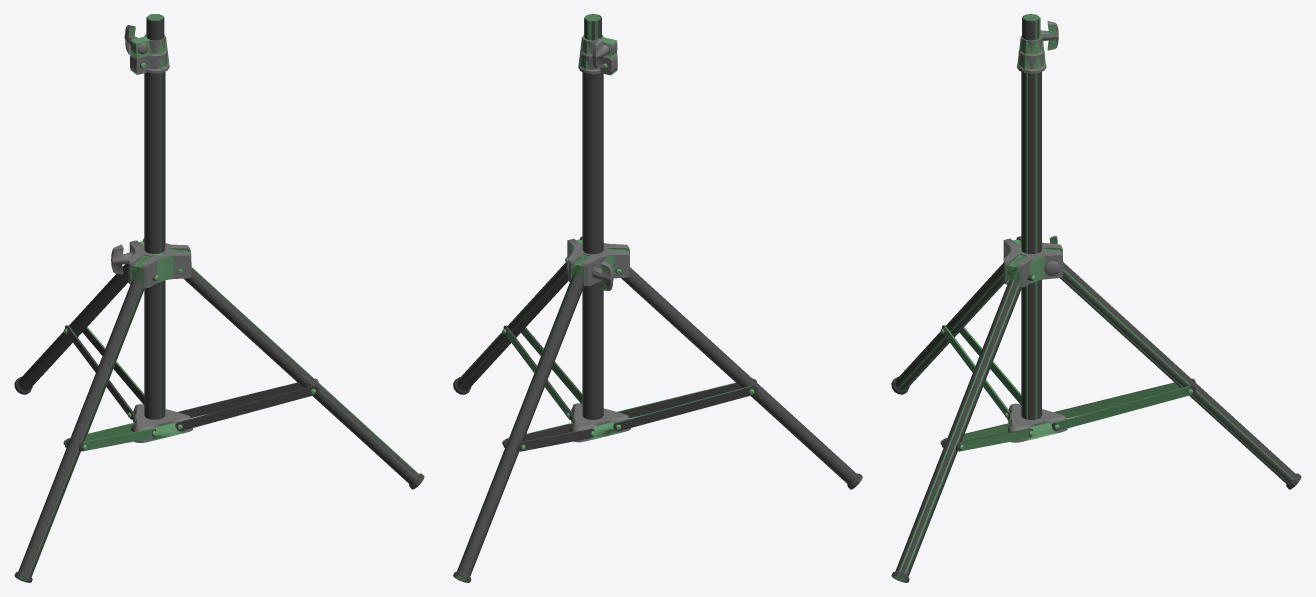
File: Tripod_01_Mesh.fbx
3 renders of one model, left to right at view 1: azimuth 30°, elevation 25°; view 2: azimuth 150°, elevation 25°; view 3: azimuth 270°, elevation 25°, orthographic.
Visible parts, largest first — view 1: Tripod_01_LOD0, Tripod_01_col; view 2: Tripod_01_LOD0, Tripod_01_col; view 3: Tripod_01_LOD0, Tripod_01_col.
Boxes of the visible parts, x1,y1,x2,y2 form: Tripod_01_LOD0: (14,14,424,582); Tripod_01_col: (17,14,419,581); Tripod_01_LOD0: (453,14,862,582); Tripod_01_col: (455,14,849,581); Tripod_01_LOD0: (891,14,1301,582); Tripod_01_col: (893,14,1293,581).
Size of what is drawn, in the model's own units: 0.9071 by 1 by 0.7906.
